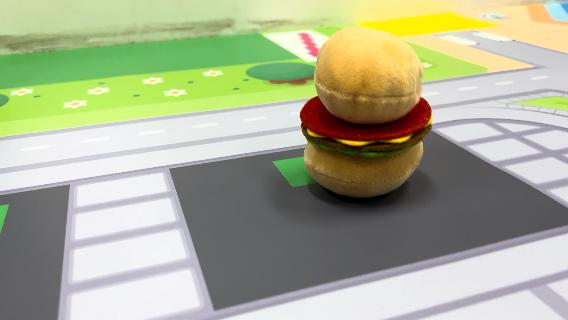burger: (297, 23, 437, 200)
